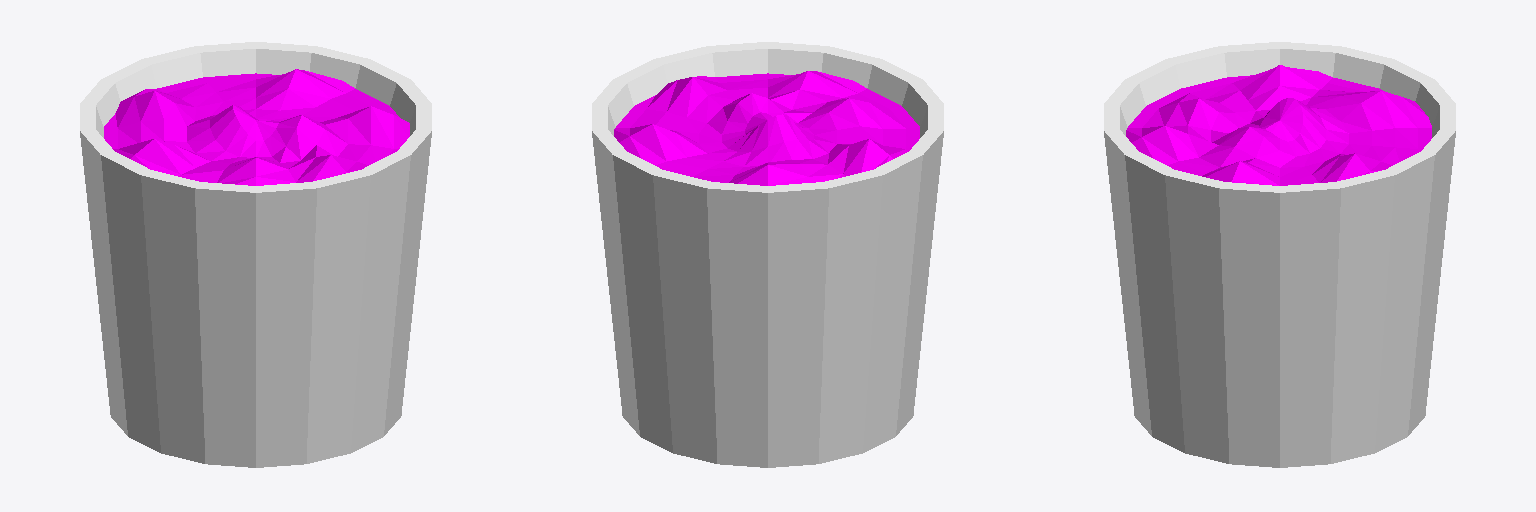
File: nabe.obj
3 renders of one model, left to right at view 1: azimuth 30°, elevation 25°; view 2: azimuth 150°, elevation 25°; view 3: azimuth 270°, elevation 25°, orthographic.
Parts seen in each view (by area): view 1: pCylinder1, pCylinder2; view 2: pCylinder1, pCylinder2; view 3: pCylinder1, pCylinder2.
Part boxes in pixels (x1,y1,x2,y2): pCylinder1: (80, 42, 431, 467); pCylinder2: (104, 69, 409, 185); pCylinder1: (592, 42, 943, 467); pCylinder2: (614, 71, 919, 185); pCylinder1: (1104, 42, 1455, 467); pCylinder2: (1126, 65, 1431, 185).
Size of the model in its own units: 1 by 0.9225 by 0.9848.